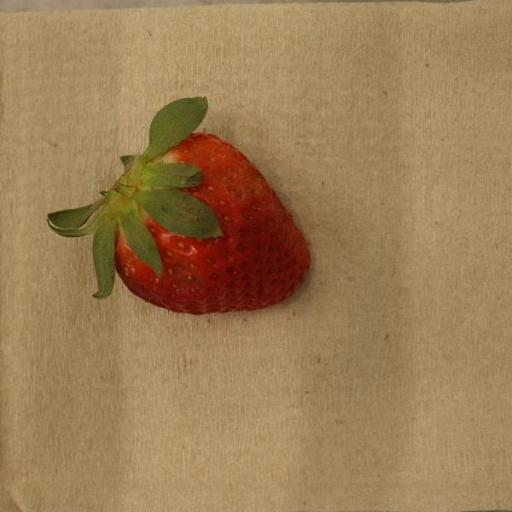Strawberry: (45, 97, 310, 315)
